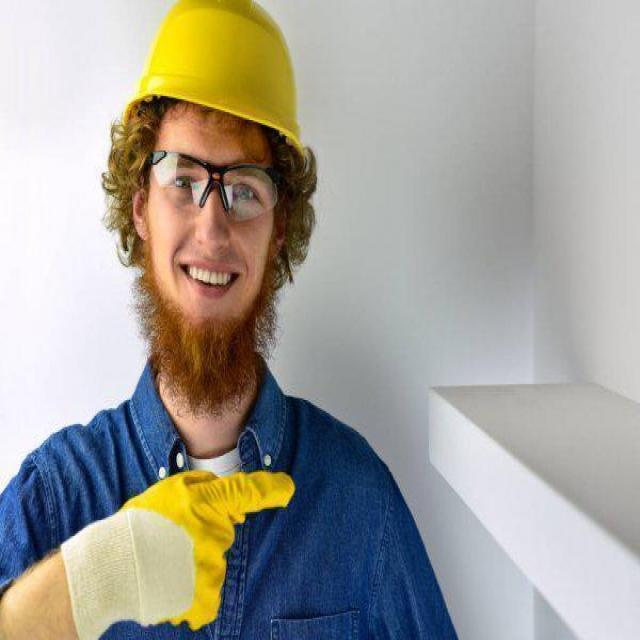hat: (136, 0, 306, 168)
